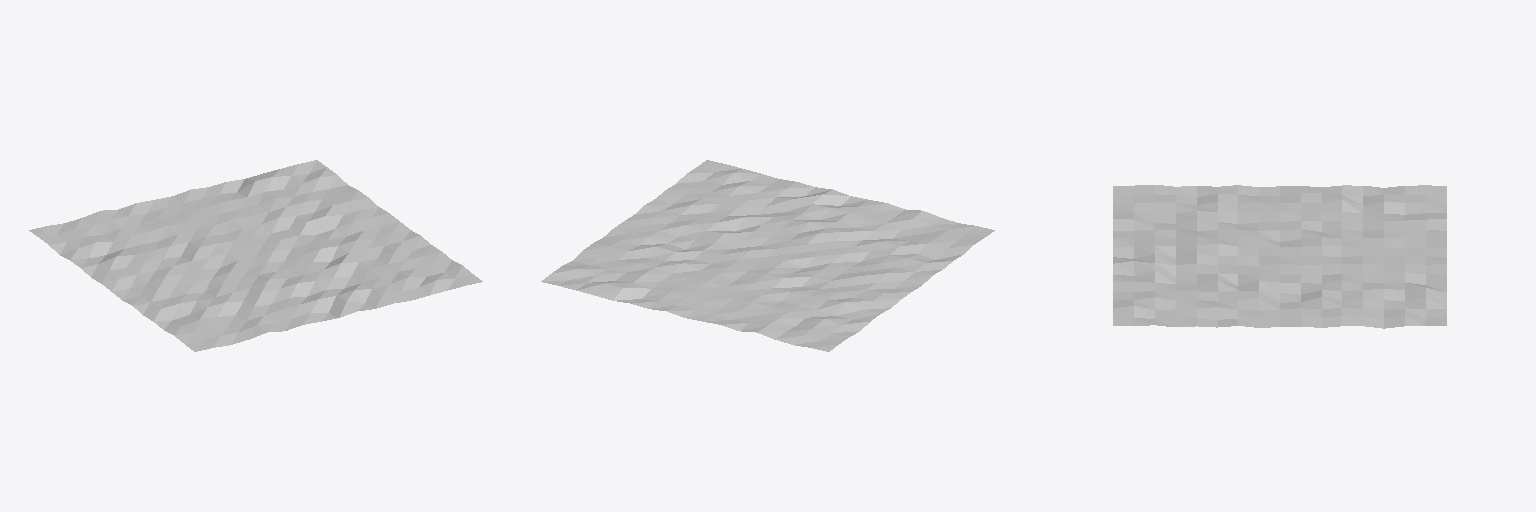
File: surf16x16.obj
The picture shows the model from 3 angles: view 1: azimuth 30°, elevation 25°; view 2: azimuth 150°, elevation 25°; view 3: azimuth 270°, elevation 25°; orthographic projection.
Visible parts, largest first — view 1: Plane; view 2: Plane; view 3: Plane.
Boxes of the visible parts, box(x1,y1,x2,y2) form: Plane: box(29, 160, 482, 351); Plane: box(541, 160, 994, 351); Plane: box(1113, 185, 1446, 328).
Size of the model in its own units: 16 by 0.4186 by 16.